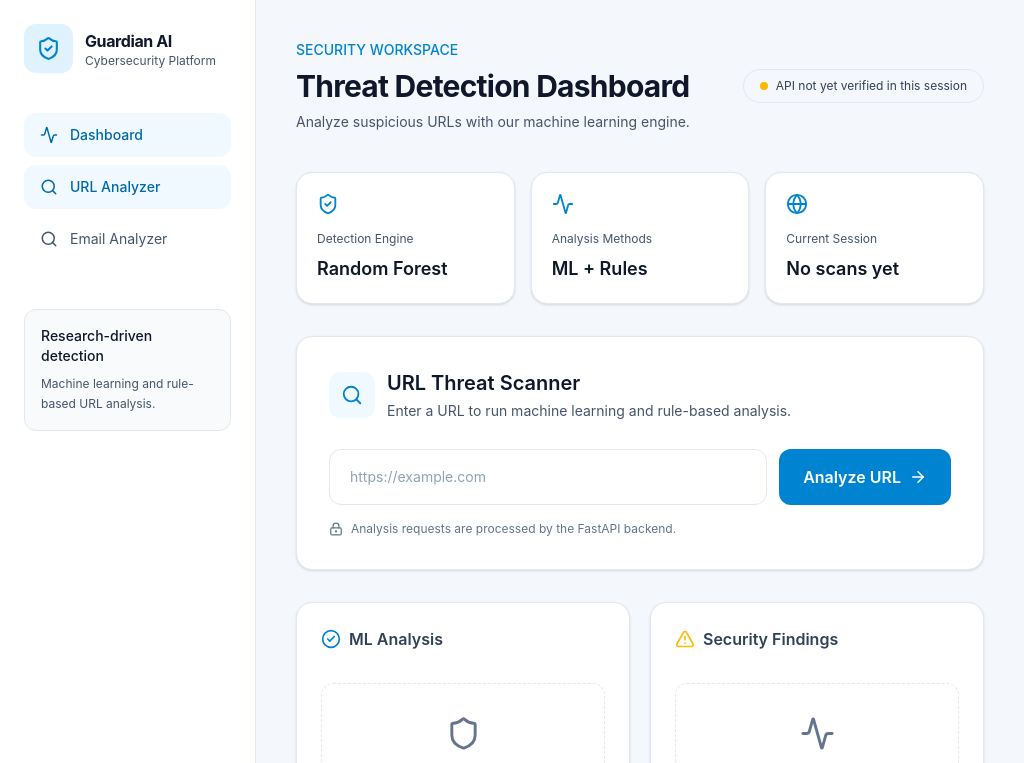
Test: Analysis mode isolation › clears the previous status message when switching modes
Type "https://example.com/login" into the field named "URL to analyze".
click(548, 477); type("https://example.com/login")  # box [329,449,767,505]
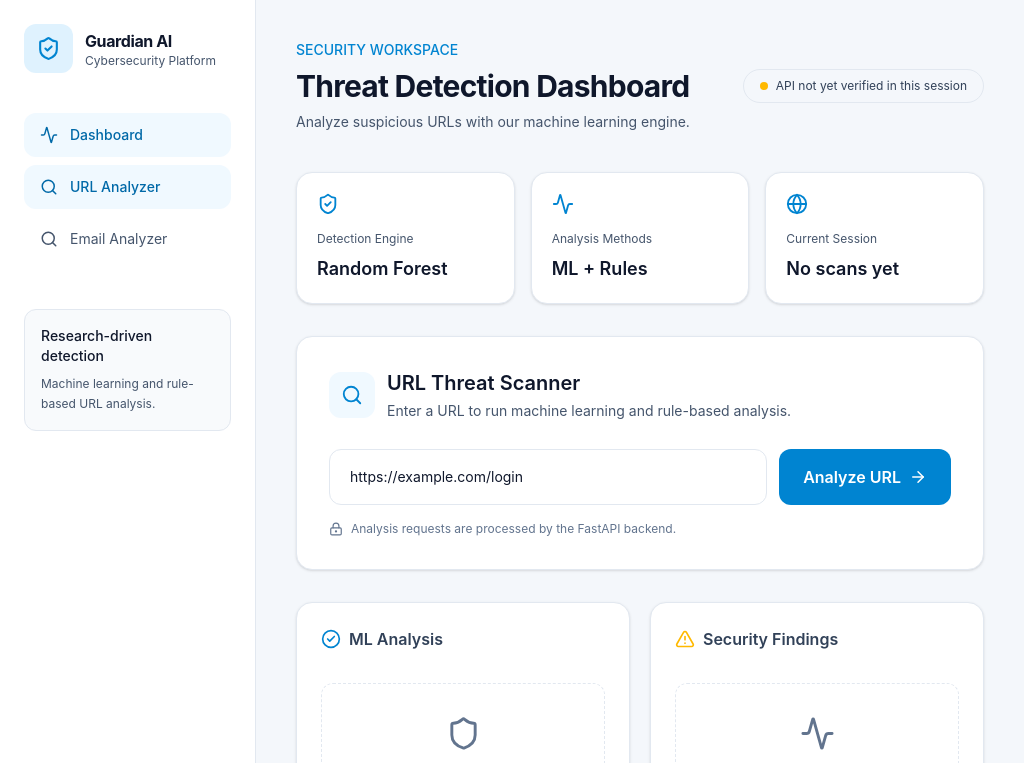
Click the button "Analyze URL".
click(865, 477)  # box [779,449,951,505]
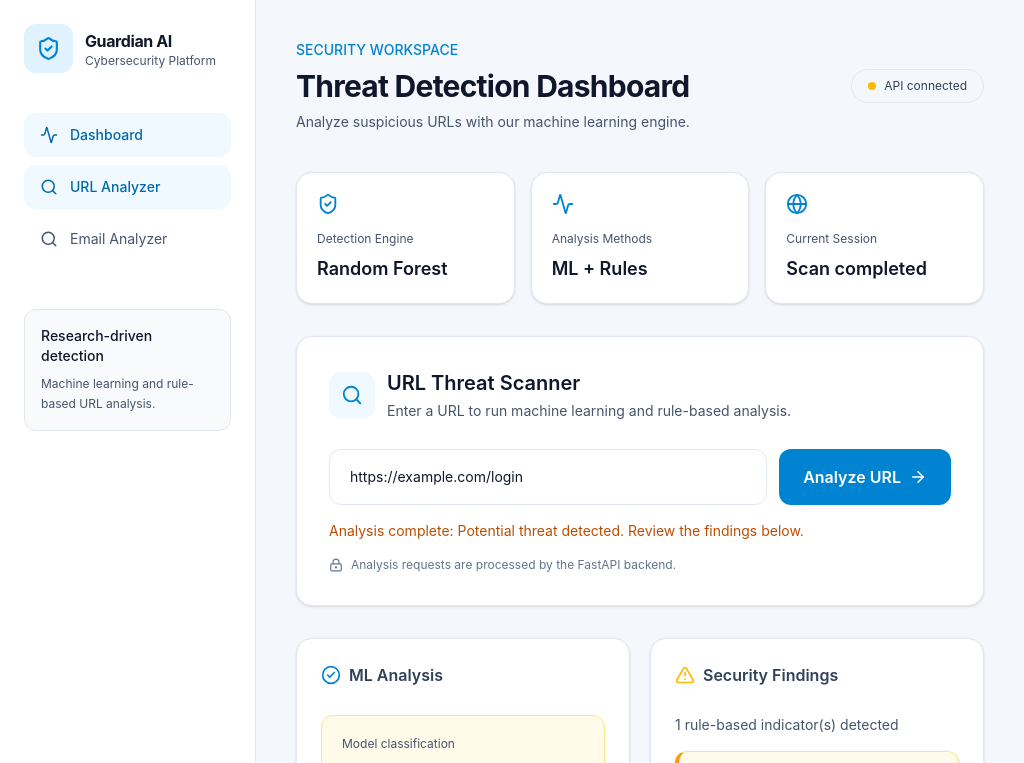
Result: the message shows "Potential threat detected" at [329,522,804,539]
Click the button "Email Analyzer".
click(128, 239)  # box [24,217,231,261]
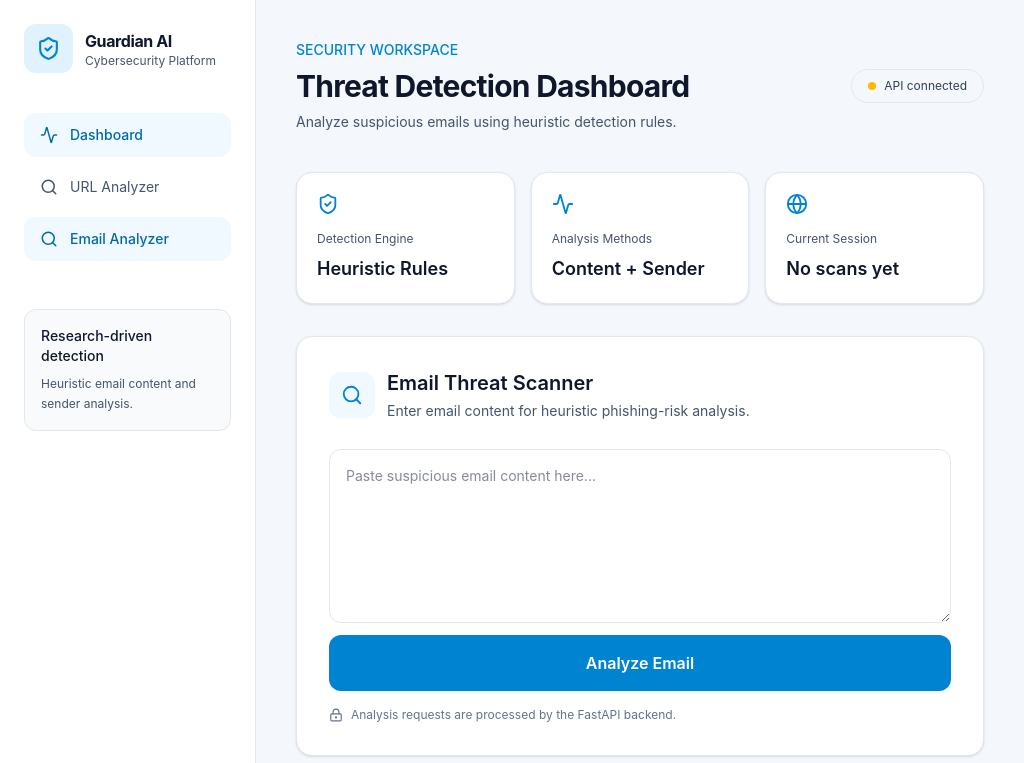
Result: the heading "ML Analysis" is gone
Result: the heading "Security Findings" is gone
Result: the message "Analysis complete: Potential threat detected. Review the findings below." is gone
